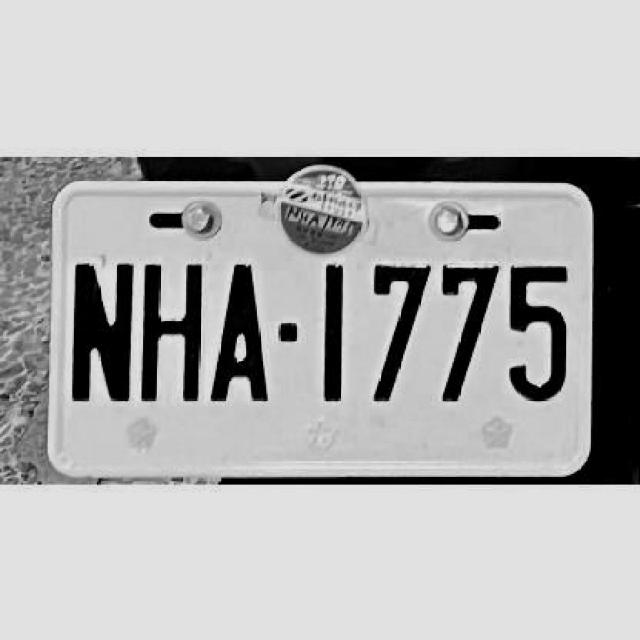-: (275, 319, 297, 343)
1: (319, 262, 343, 403)
5: (506, 259, 569, 403)
7: (438, 262, 502, 404), (371, 263, 434, 402)
A: (206, 262, 271, 411)
H: (137, 260, 205, 400)
N: (70, 262, 136, 402)
